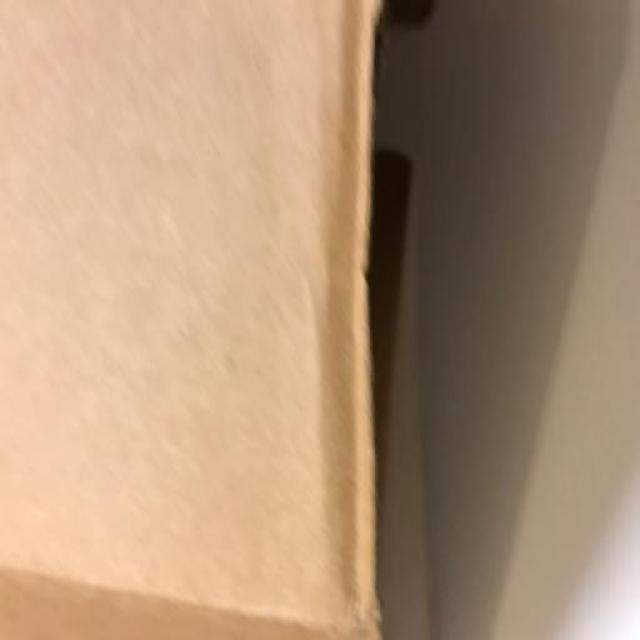Cardboard: (4, 0, 435, 637)
